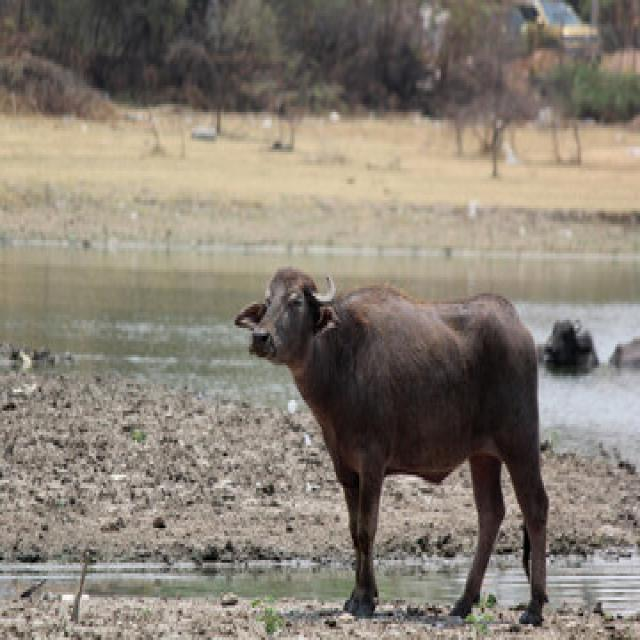Buffalo: (231, 261, 553, 624)
